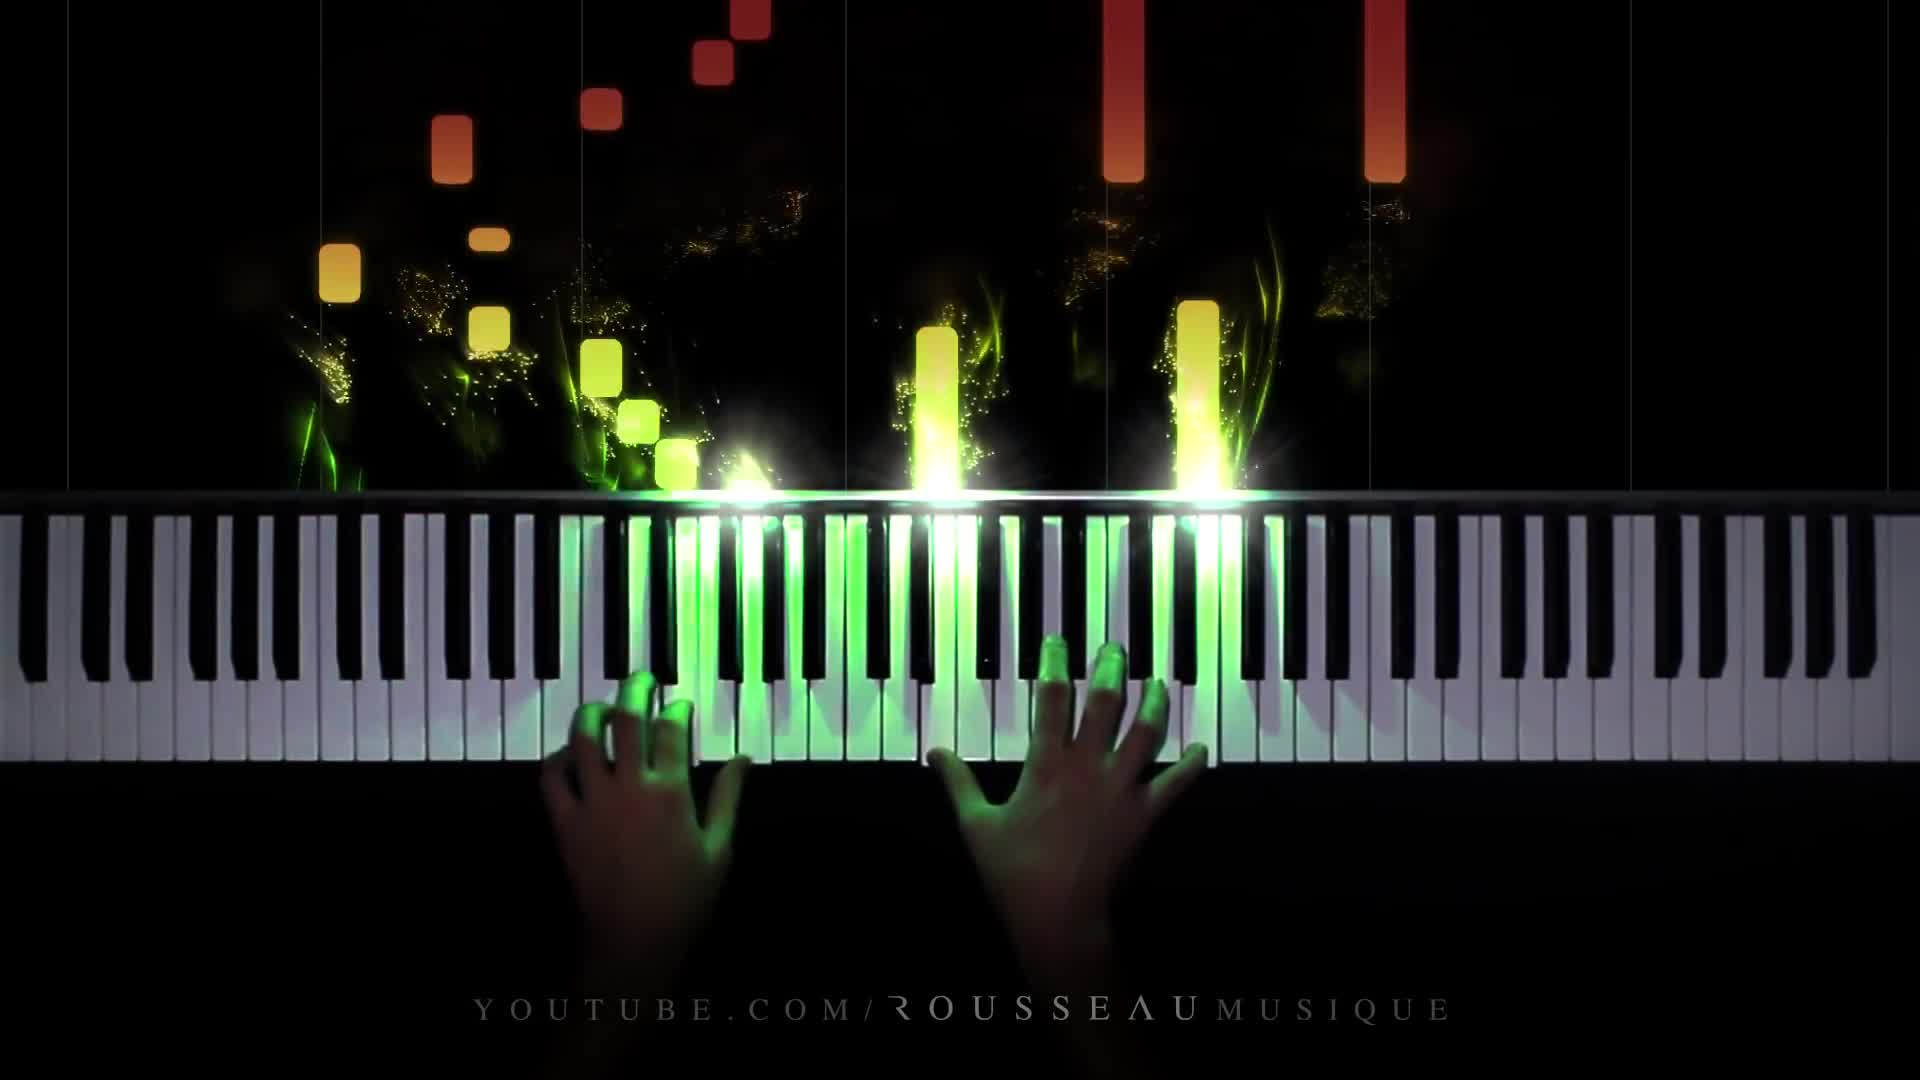left: (535, 666, 752, 928)
right: (926, 634, 1207, 905)
